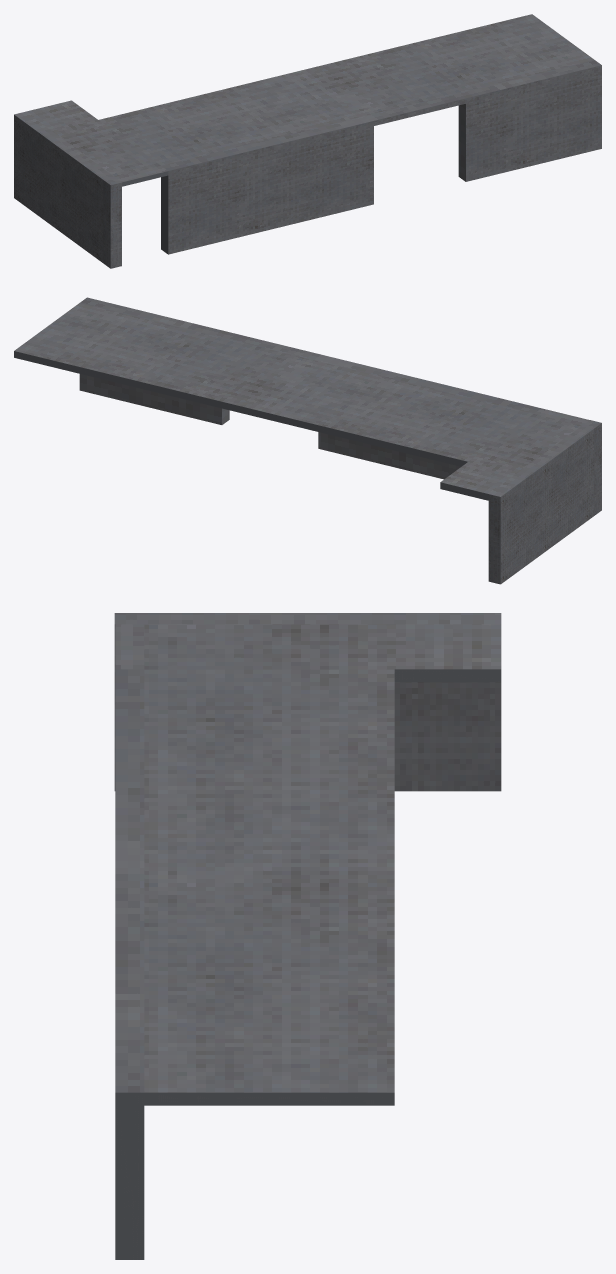
The model's file is floormetal.fbx.
3 views of the same model, one above another, from view 1: azimuth 30°, elevation 25°; view 2: azimuth 150°, elevation 25°; view 3: azimuth 270°, elevation 25° (orthographic). The views are drawn at different scales.
Parts seen in each view (by area): view 1: floor.center; view 2: floor.center; view 3: floor.center.
Boxes of the visible parts, x1=… form: floor.center: x1=14, y1=14, x2=601, y2=268; floor.center: x1=14, y1=297, x2=601, y2=584; floor.center: x1=114, y1=613, x2=501, y2=1259.
Bounding box in the file's own units: 45.1 × 7.33 × 15.37.
